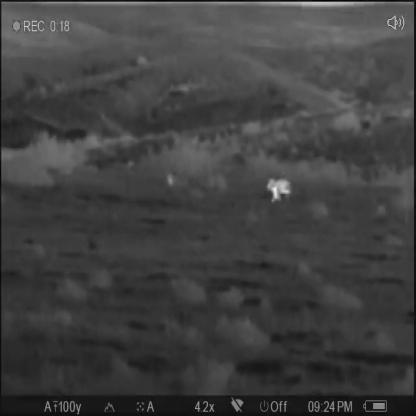rehkitze: (269, 177, 293, 205)
